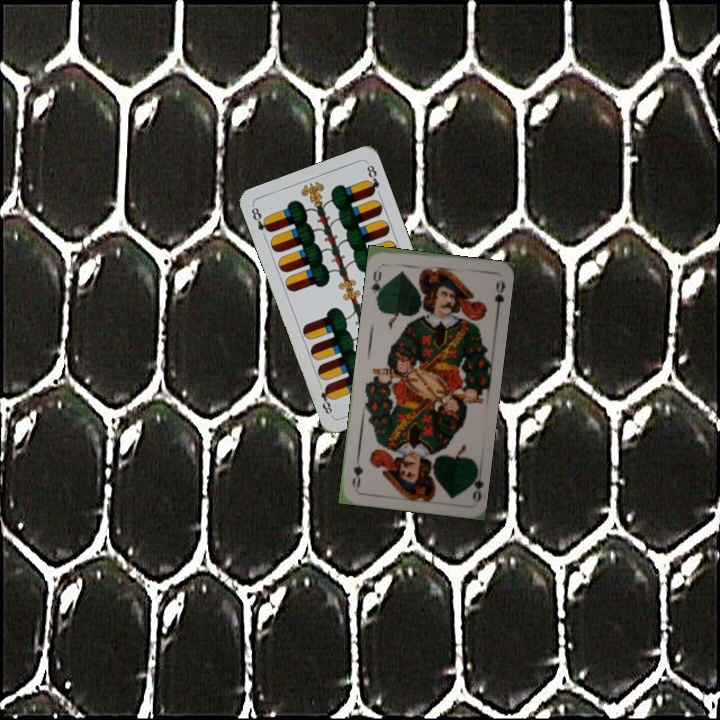E8: (247, 202, 273, 235)
GO: (465, 462, 485, 504), (368, 265, 387, 301)
